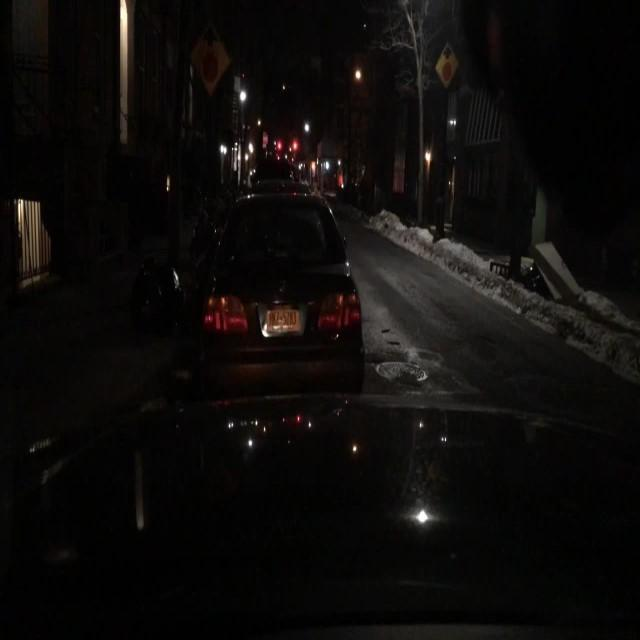normal: (205, 196, 362, 358)
